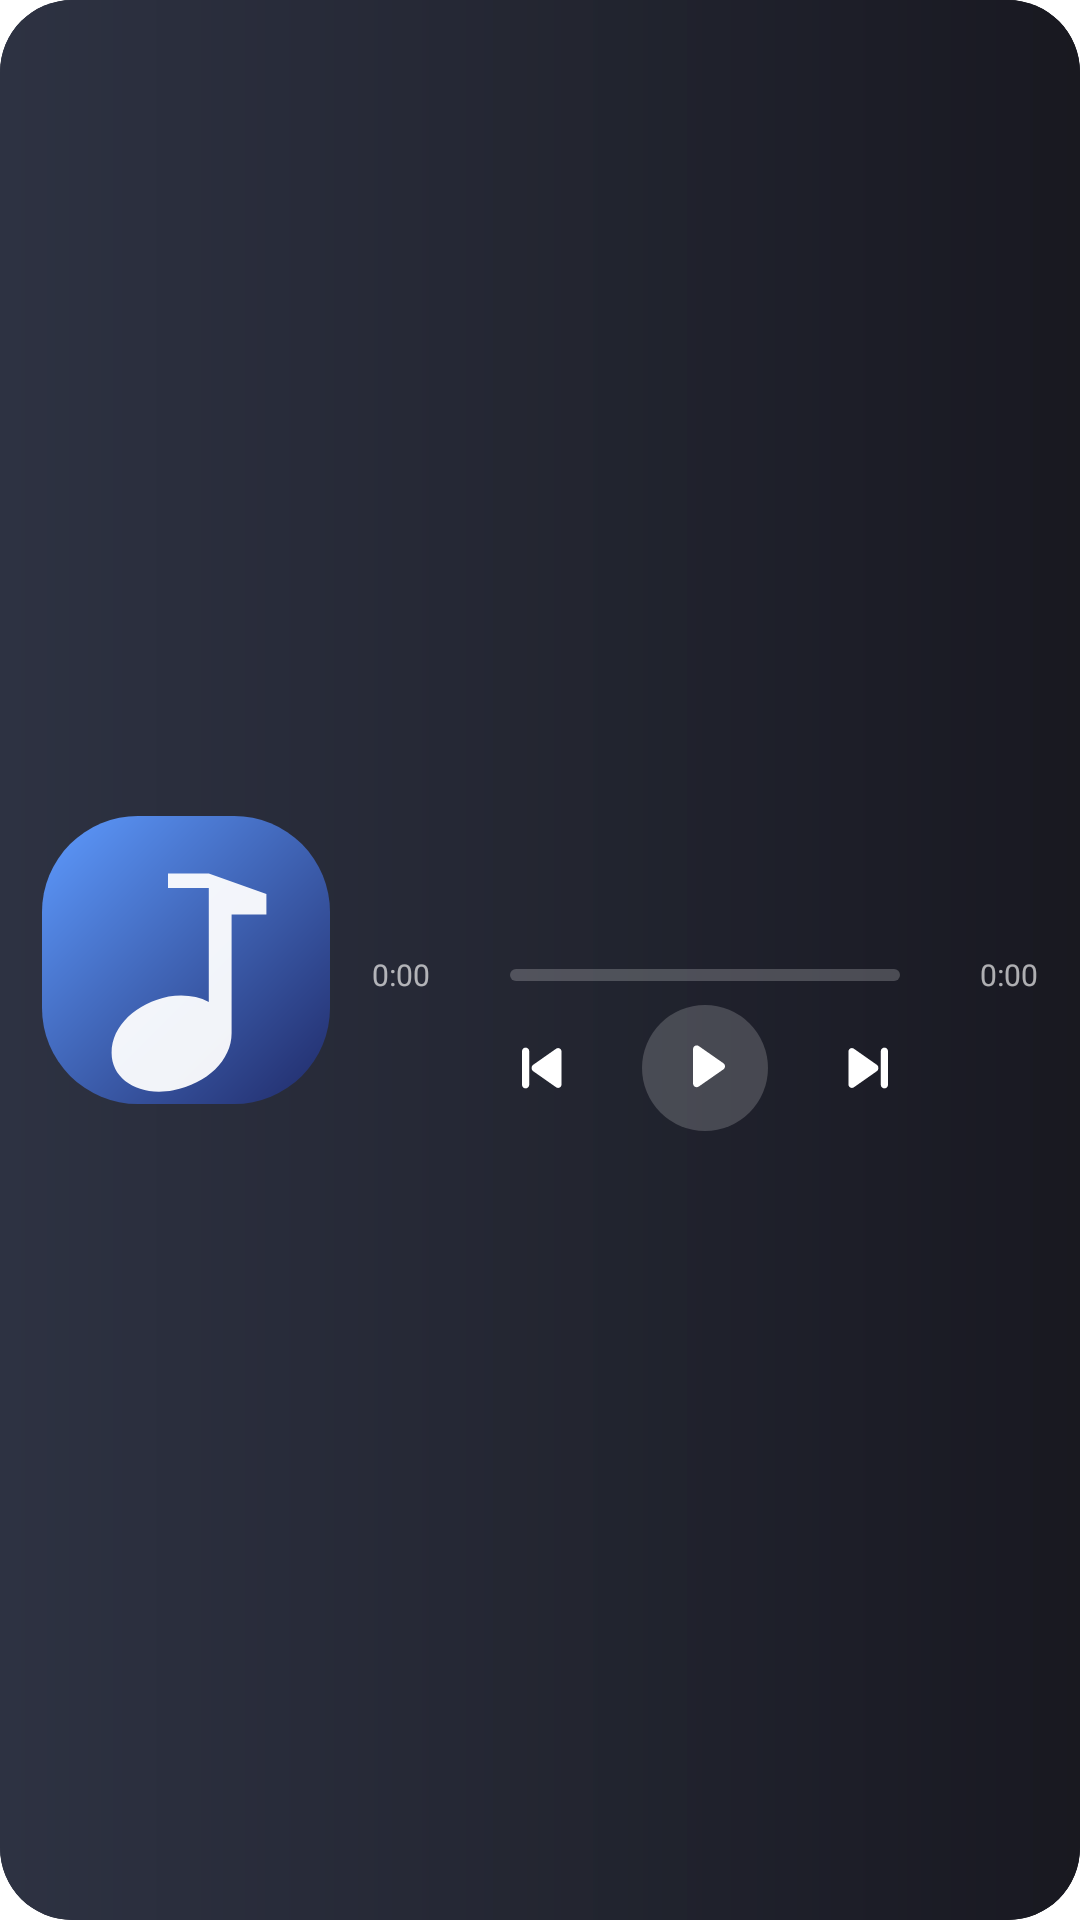

Locate icon controls on the screen. Image size 1080*1920, boxes as (x1, y1, x2, y2).
上一首: (522, 1047, 562, 1089)
下一首: (848, 1047, 888, 1089)
播放: (642, 1005, 768, 1131)
